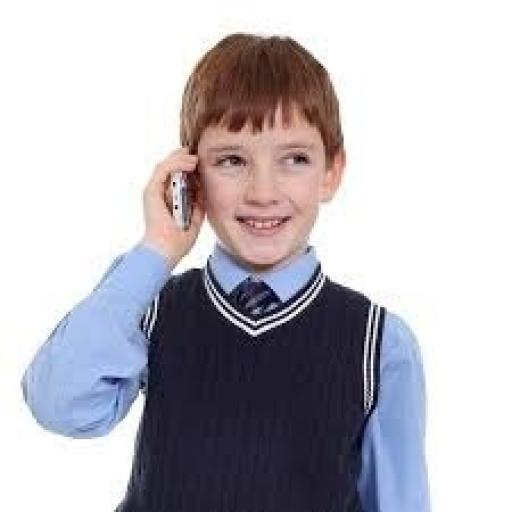calling: (18, 30, 444, 510)
